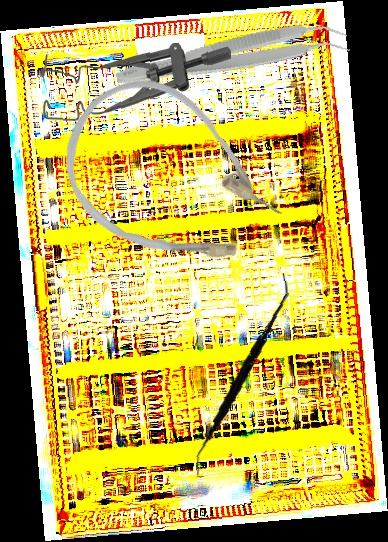Cannula: (36, 53, 306, 307)
Spatula Surgical: (177, 273, 304, 477)
Speculum: (39, 38, 232, 127)
Tissue Forceps: (113, 14, 351, 102)
